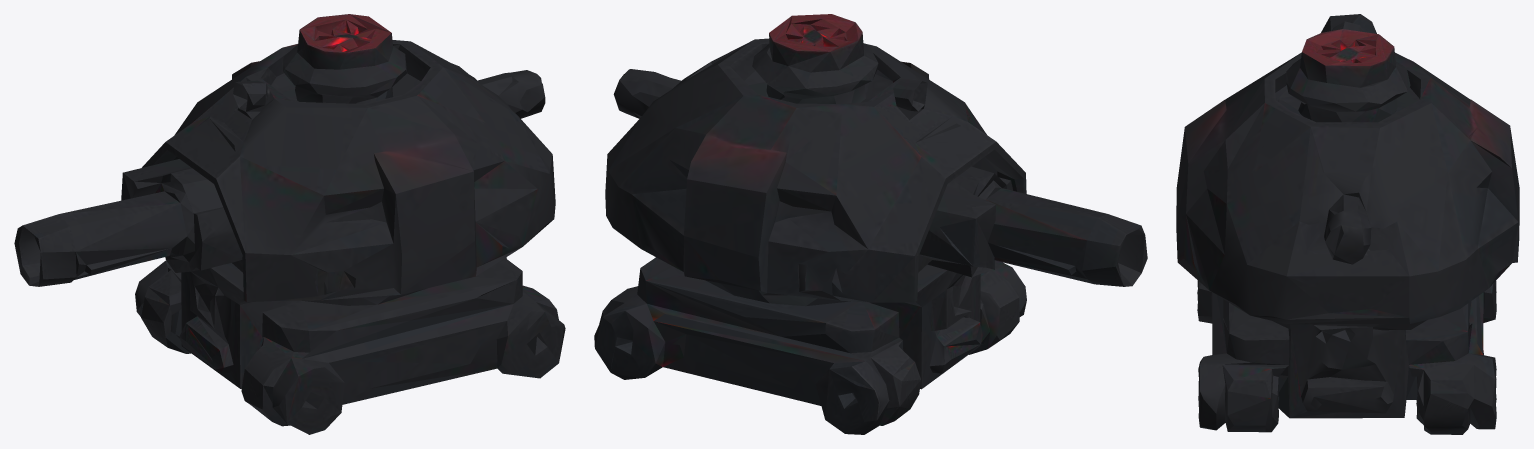
Rendered from turret.glb.
3 renders of one model, left to right at view 1: azimuth 30°, elevation 25°; view 2: azimuth 150°, elevation 25°; view 3: azimuth 270°, elevation 25°, orthographic.
Bounding box in the file's own units: 1.9 × 1.15 × 1.11.
1 material, 1 textured.
